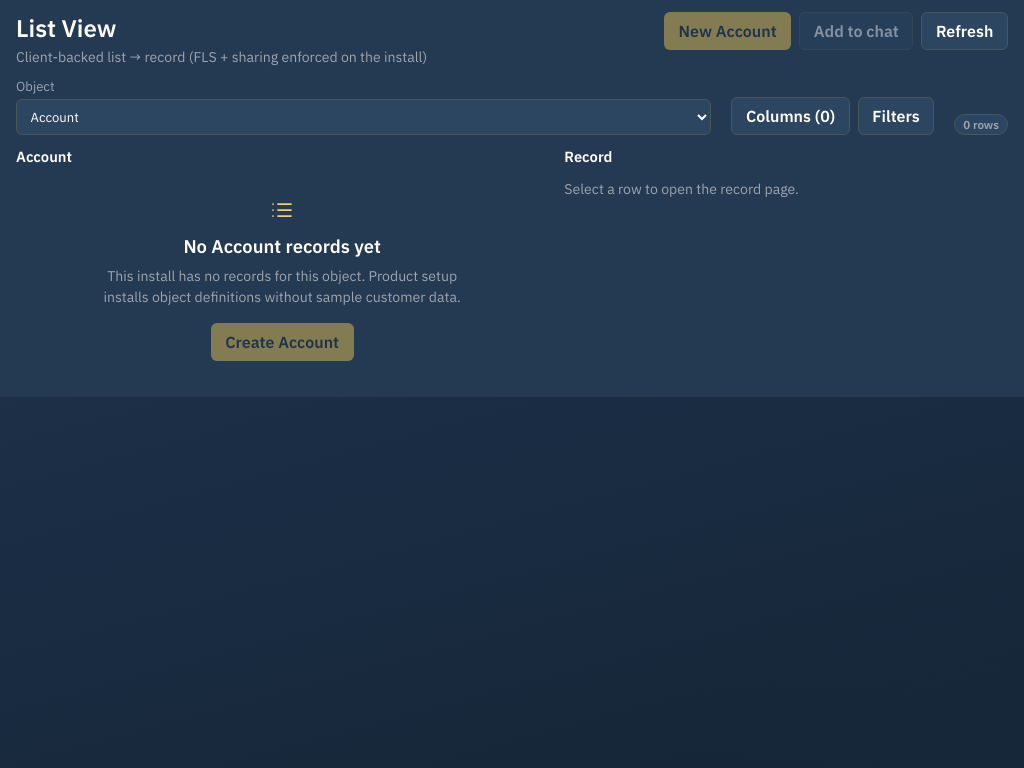
Test case: RunObjectHomePanel › shows an honest empty state for an admin when the object has no records
The width and height of the screenshot is (1024, 768).
Expected: the element with test id "run-object-home-empty" is shown, [104,198,461,361]
Expected: the heading "No Account records yet" is shown, [183,234,381,258]
Click the button "Create Account" at (282, 342), box [211,323,354,361]
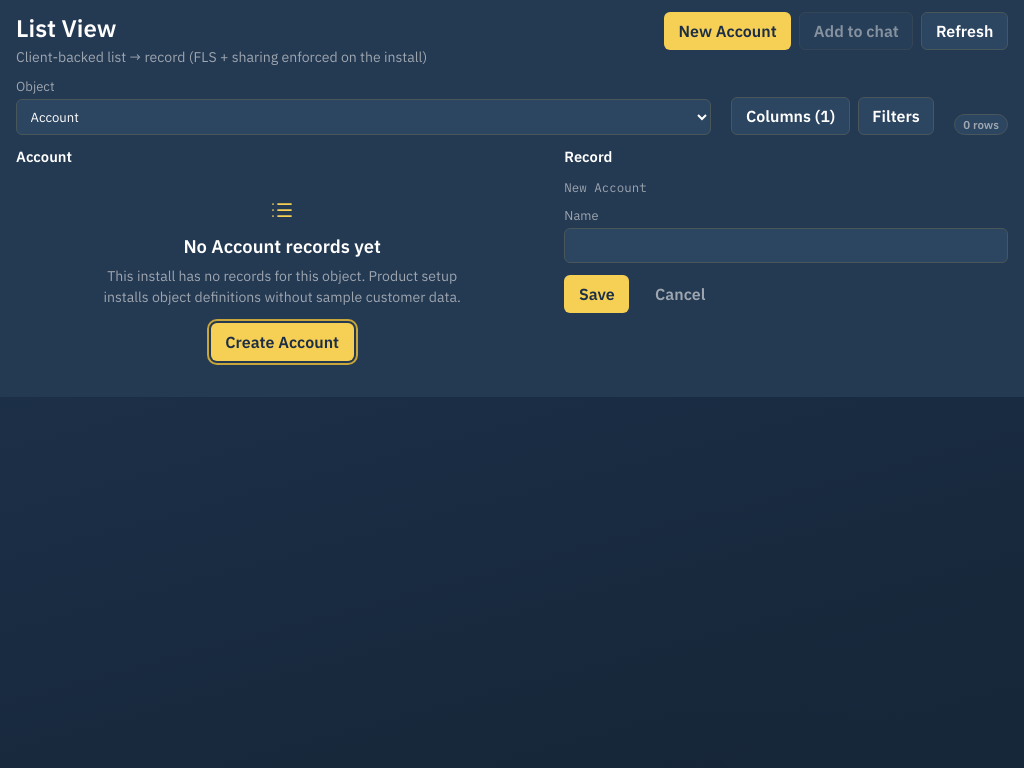
Expected: the element with test id "run-object-home-form" is shown, [564,179,1008,313]
